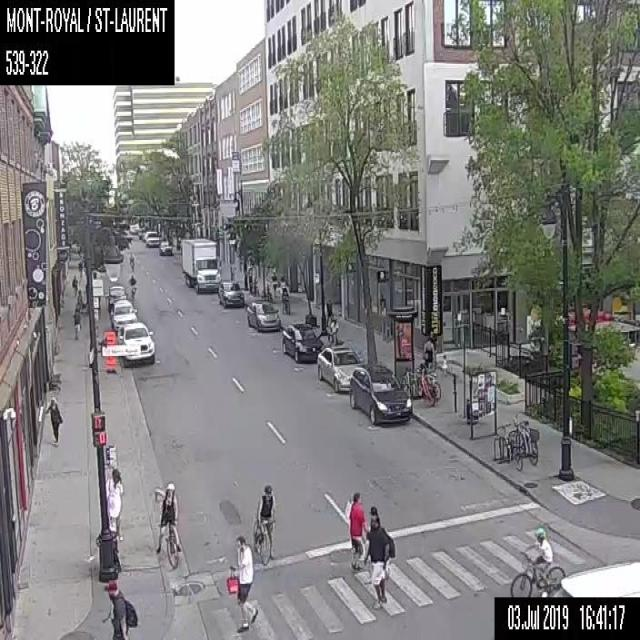construction: (104, 329, 116, 373)
cyclist: (510, 527, 564, 596), (154, 481, 181, 567), (251, 484, 275, 567), (128, 274, 136, 299), (128, 252, 134, 270)
pedestrian: (224, 535, 256, 633), (104, 581, 138, 639), (368, 505, 394, 578), (368, 515, 388, 608), (345, 492, 370, 559), (105, 467, 123, 549), (349, 492, 368, 567), (44, 396, 62, 447), (422, 336, 433, 361), (328, 318, 338, 344), (72, 307, 80, 339), (281, 284, 289, 312), (74, 300, 80, 328), (247, 265, 253, 292), (441, 353, 447, 376), (271, 271, 276, 297), (76, 288, 82, 309), (72, 274, 77, 298), (78, 259, 82, 276)
vehicle: (348, 363, 412, 423), (179, 235, 221, 293), (316, 344, 364, 392), (116, 321, 154, 366), (281, 322, 323, 362), (246, 300, 280, 330), (111, 298, 137, 332), (218, 281, 244, 306), (107, 284, 126, 309), (144, 230, 158, 245), (158, 240, 172, 254), (138, 227, 145, 239), (129, 224, 138, 233)
